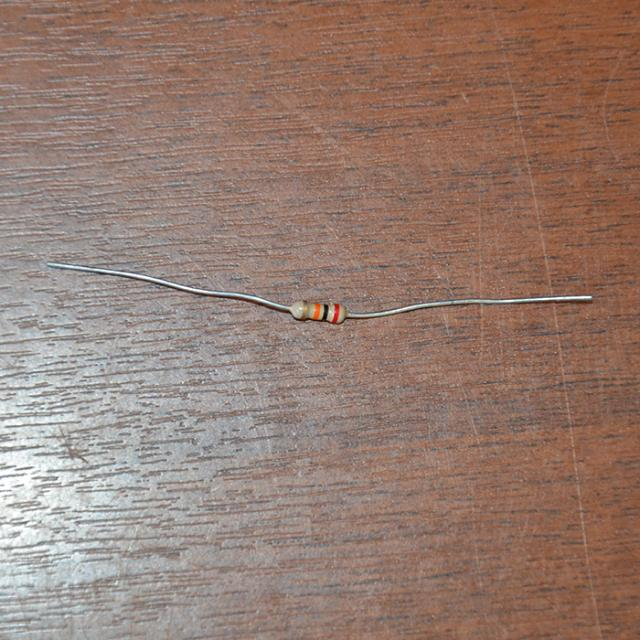black: (323, 304, 329, 318)
gold: (302, 301, 308, 318)
orange: (314, 302, 319, 318)
red: (334, 304, 341, 321)
resistor: (289, 297, 350, 327)
